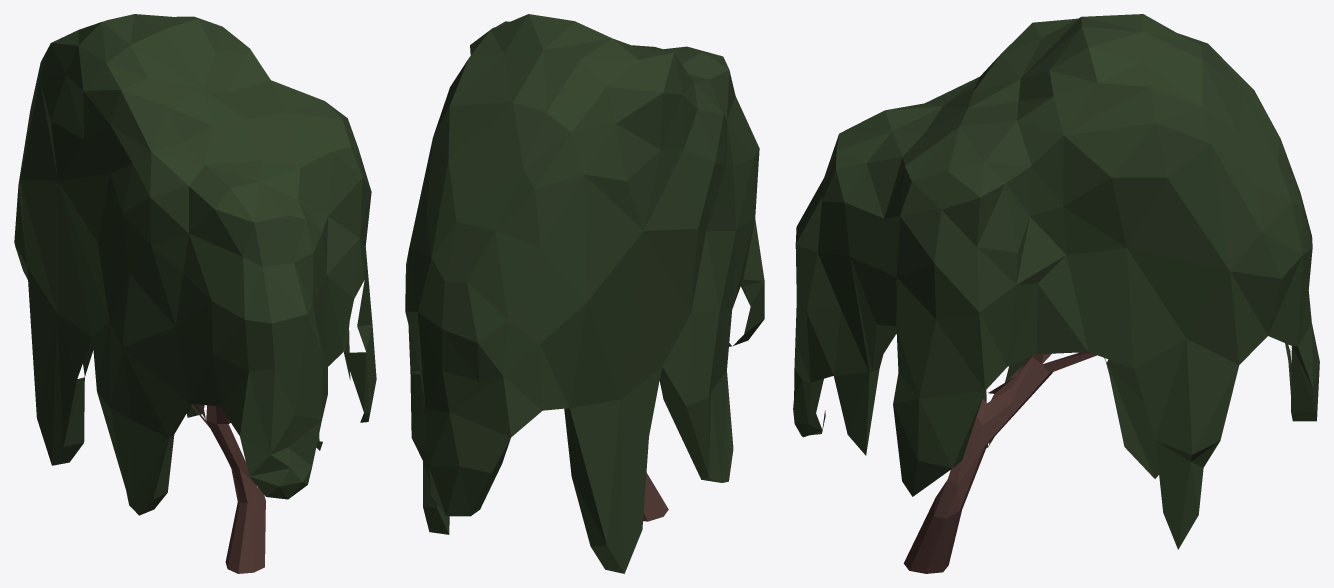
Rendered from Willow_1.glb.
3 renders of one model, left to right at view 1: azimuth 30°, elevation 25°; view 2: azimuth 150°, elevation 25°; view 3: azimuth 270°, elevation 25°, orthographic. The views are drawn at different scales.
Parts seen in each view (by area): view 1: Willow_1_Cube.010; view 2: Willow_1_Cube.010; view 3: Willow_1_Cube.010.
Boxes of the visible parts, box(x1,y1,x2,y2) form: Willow_1_Cube.010: box(14, 14, 376, 573); Willow_1_Cube.010: box(405, 14, 764, 573); Willow_1_Cube.010: box(793, 14, 1319, 573).
Size of the model in its own units: 1.45 by 2.85 by 2.55.
